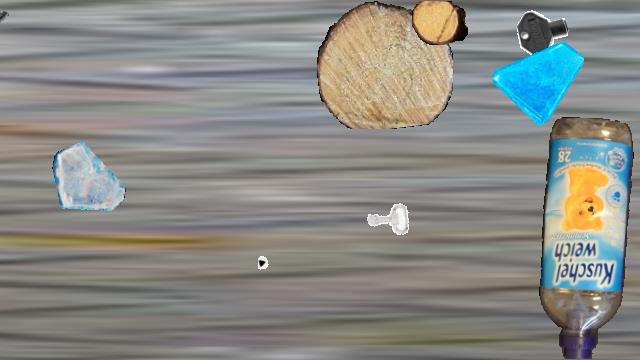glass: (493, 35, 583, 125), (52, 139, 126, 213)
metal: (258, 238, 320, 300), (513, 1, 575, 63), (361, 193, 413, 245), (0, 1, 15, 53)
plastic: (538, 117, 636, 359)
wood: (317, 1, 453, 129), (412, 1, 468, 45)
